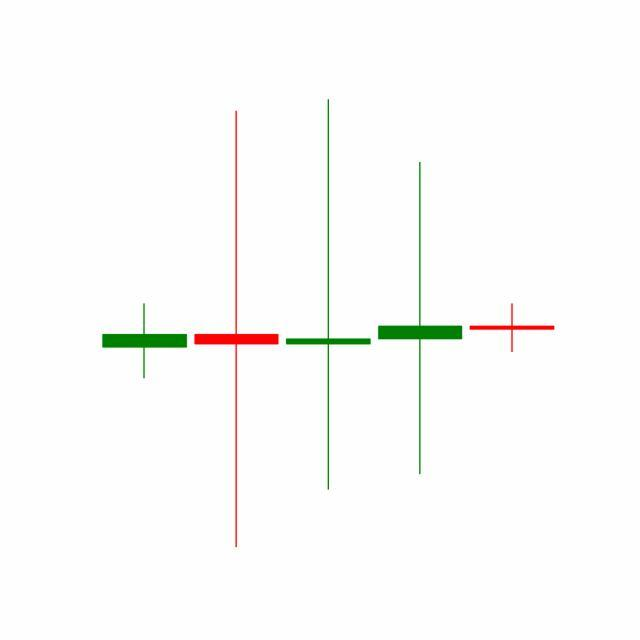Spinning Top: (466, 303, 559, 354)
